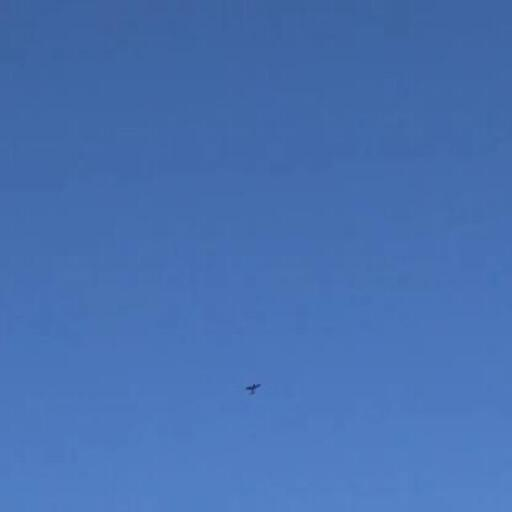aircraft: (246, 383, 262, 394)
